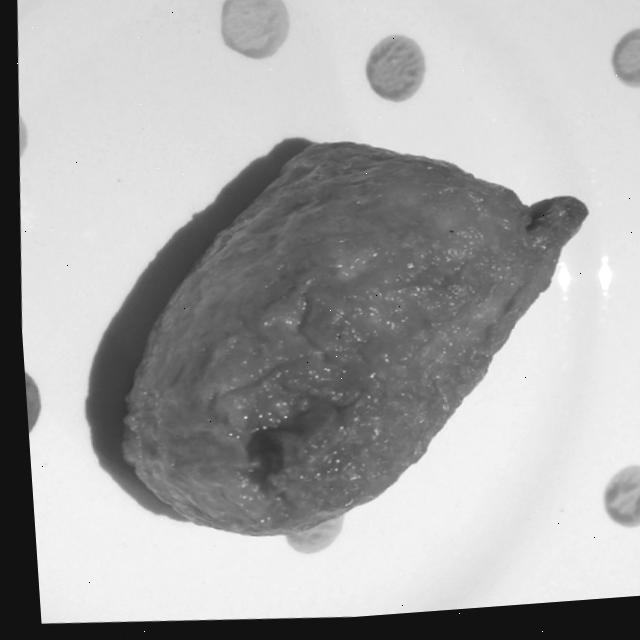寿司卷物: (4, 0, 640, 640)
